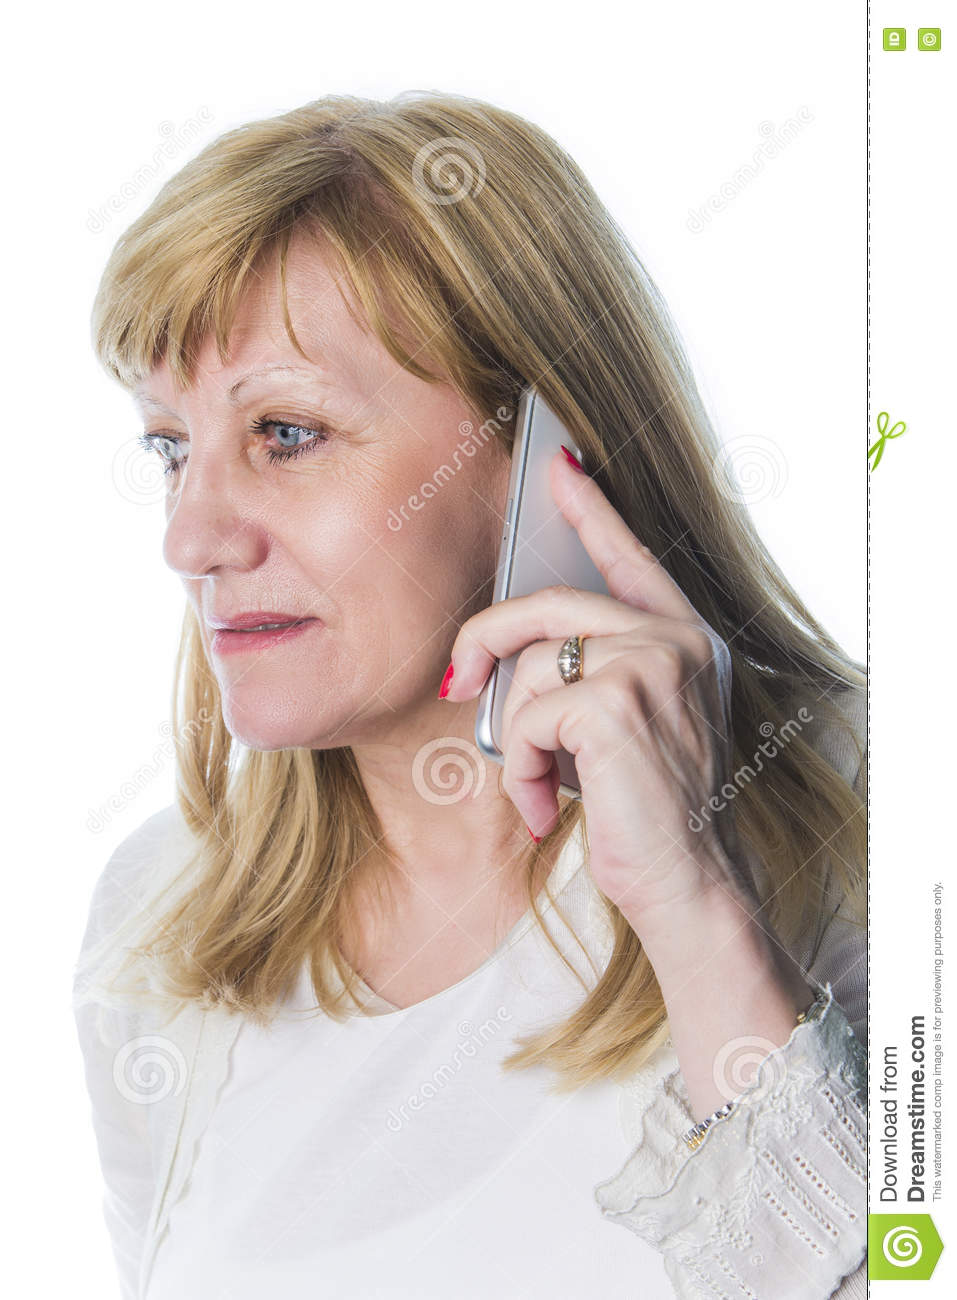phone: (472, 365, 615, 810)
talk: (132, 348, 737, 924)
